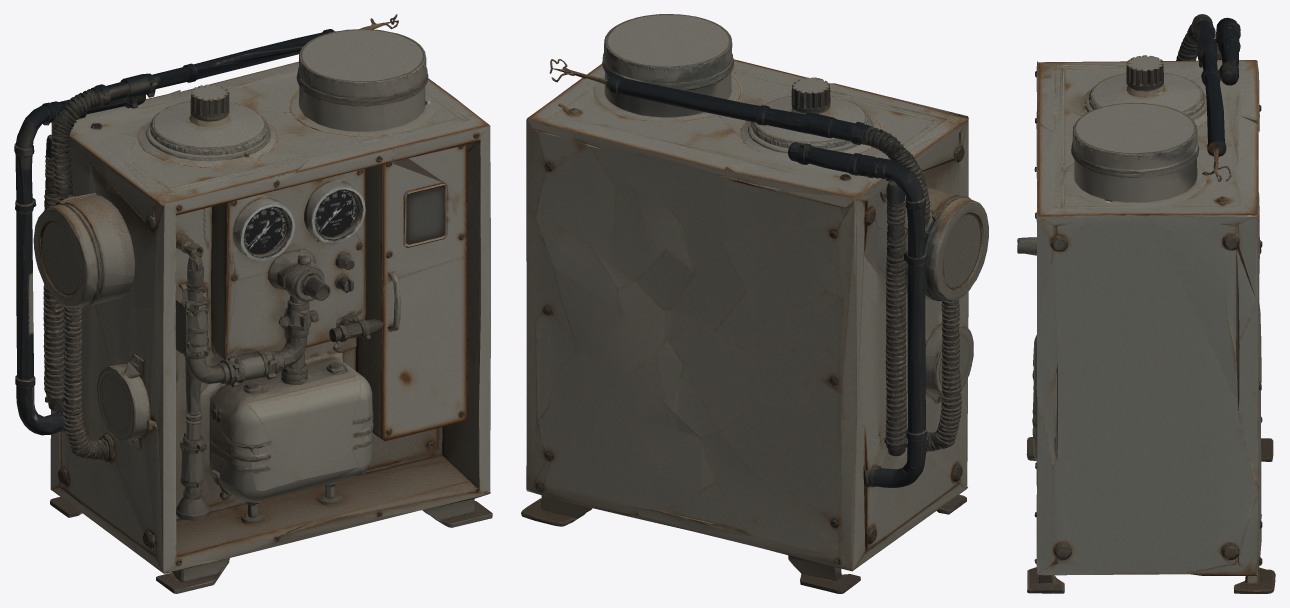
Rendered from electrolyzer.glb.
3 renders of one model, left to right at view 1: azimuth 30°, elevation 25°; view 2: azimuth 150°, elevation 25°; view 3: azimuth 270°, elevation 25°, orthographic. The views are drawn at different scales.
Parts seen in each view (by area): view 1: mesh_node; view 2: mesh_node; view 3: mesh_node.
Boxes of the visible parts, x1,y1,x2,y2 form: mesh_node: (14, 14, 492, 593); mesh_node: (521, 14, 988, 593); mesh_node: (1017, 14, 1275, 593).
Size of the model in its own units: 1.73 by 1.9 by 1.04.
Materials: 1 (1 with a texture image).
